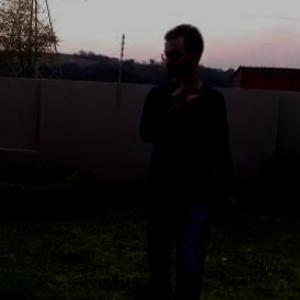land_hand: (164, 64, 204, 117)
